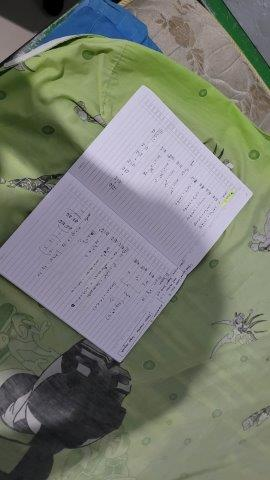kertas: (1, 85, 252, 363)
